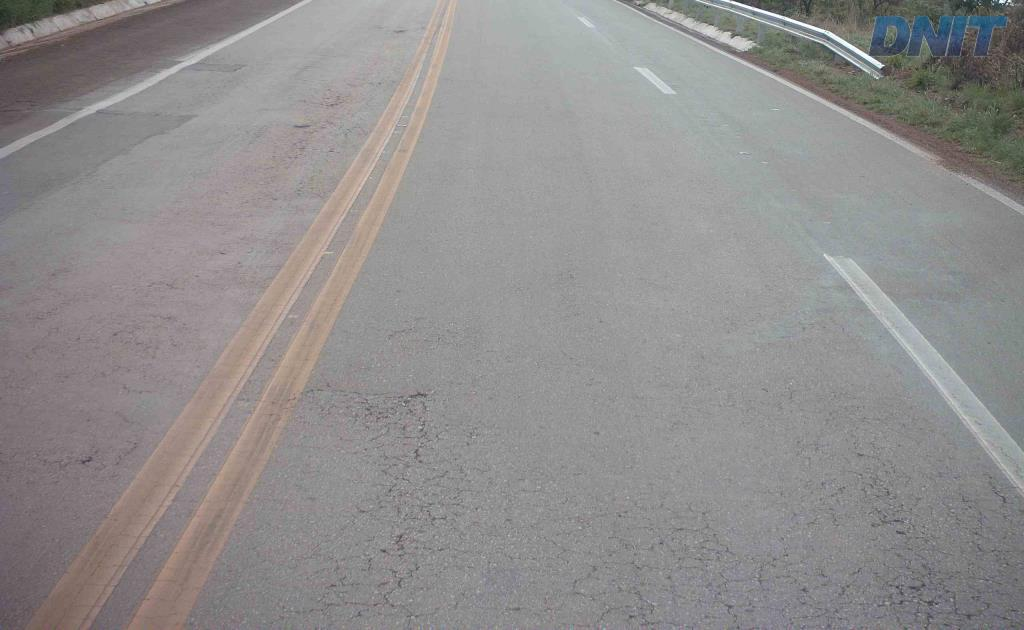crack: (881, 552, 1023, 629), (319, 560, 440, 629), (593, 560, 683, 629), (389, 502, 447, 563), (357, 390, 435, 422), (708, 575, 741, 629)
